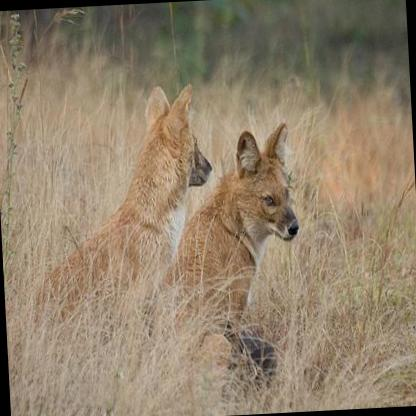dhole: (25, 81, 220, 369), (138, 118, 306, 393)
